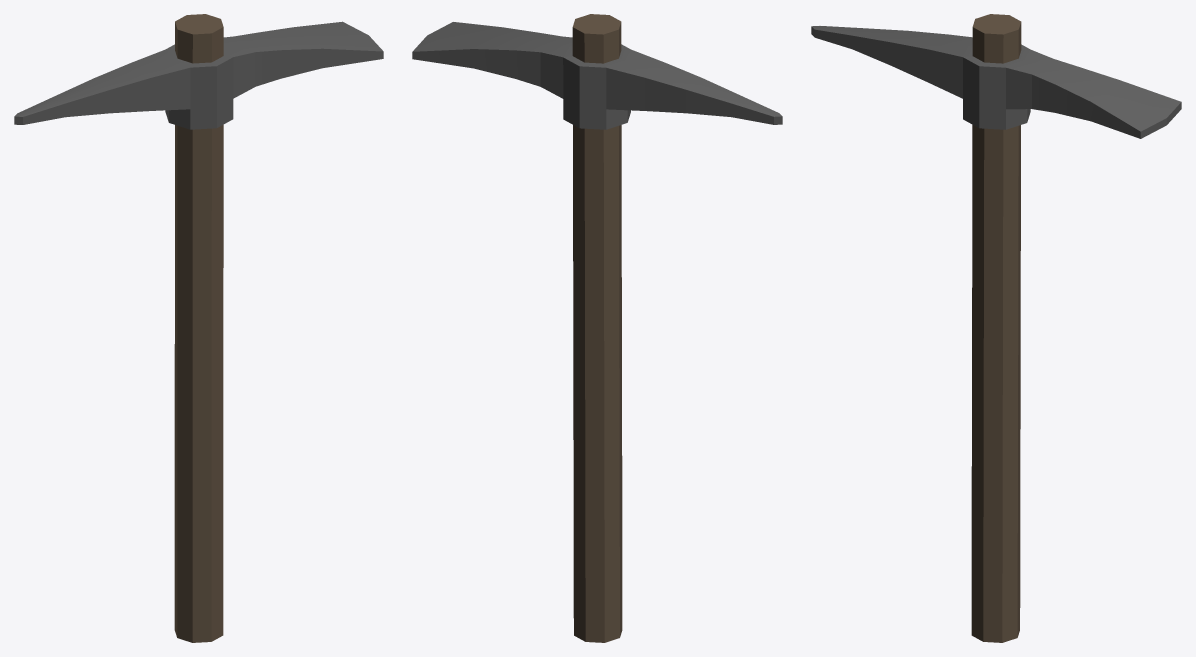
File: pickaxe_01.fbx
3 renders of one model, left to right at view 1: azimuth 30°, elevation 25°; view 2: azimuth 150°, elevation 25°; view 3: azimuth 330°, elevation 25°, orthographic.
Parts seen in each view (by area): view 1: pickaxe_01; view 2: pickaxe_01; view 3: pickaxe_01.
Boxes of the visible parts, x1,y1,x2,y2 form: pickaxe_01: [14, 14, 383, 642]; pickaxe_01: [412, 14, 782, 642]; pickaxe_01: [811, 14, 1181, 642].
Size of the model in its own units: 24.43 by 40.01 by 4.87.
